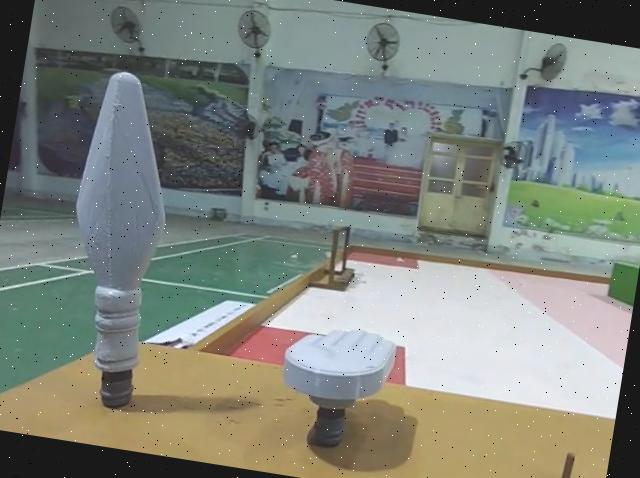Hand: (268, 310, 403, 459)
Sph: (38, 54, 192, 417)
